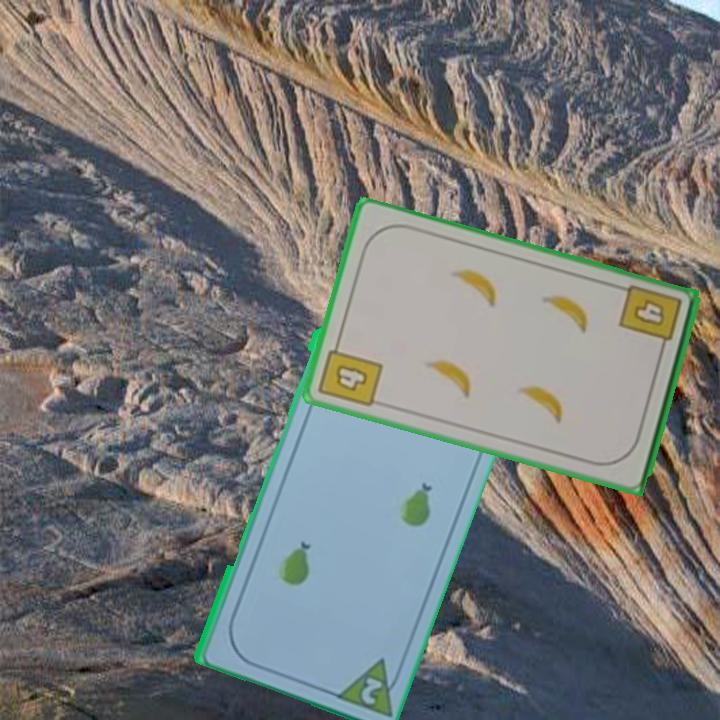2p: (356, 672, 386, 708)
4b: (615, 281, 685, 357), (315, 336, 386, 410)
